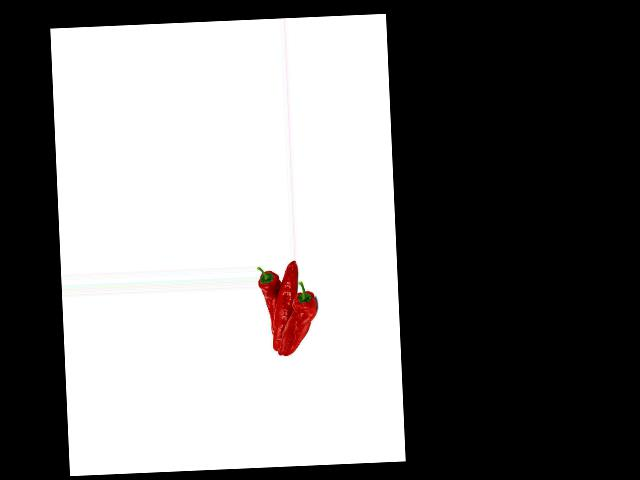bell_pepper: (284, 278, 321, 356)
